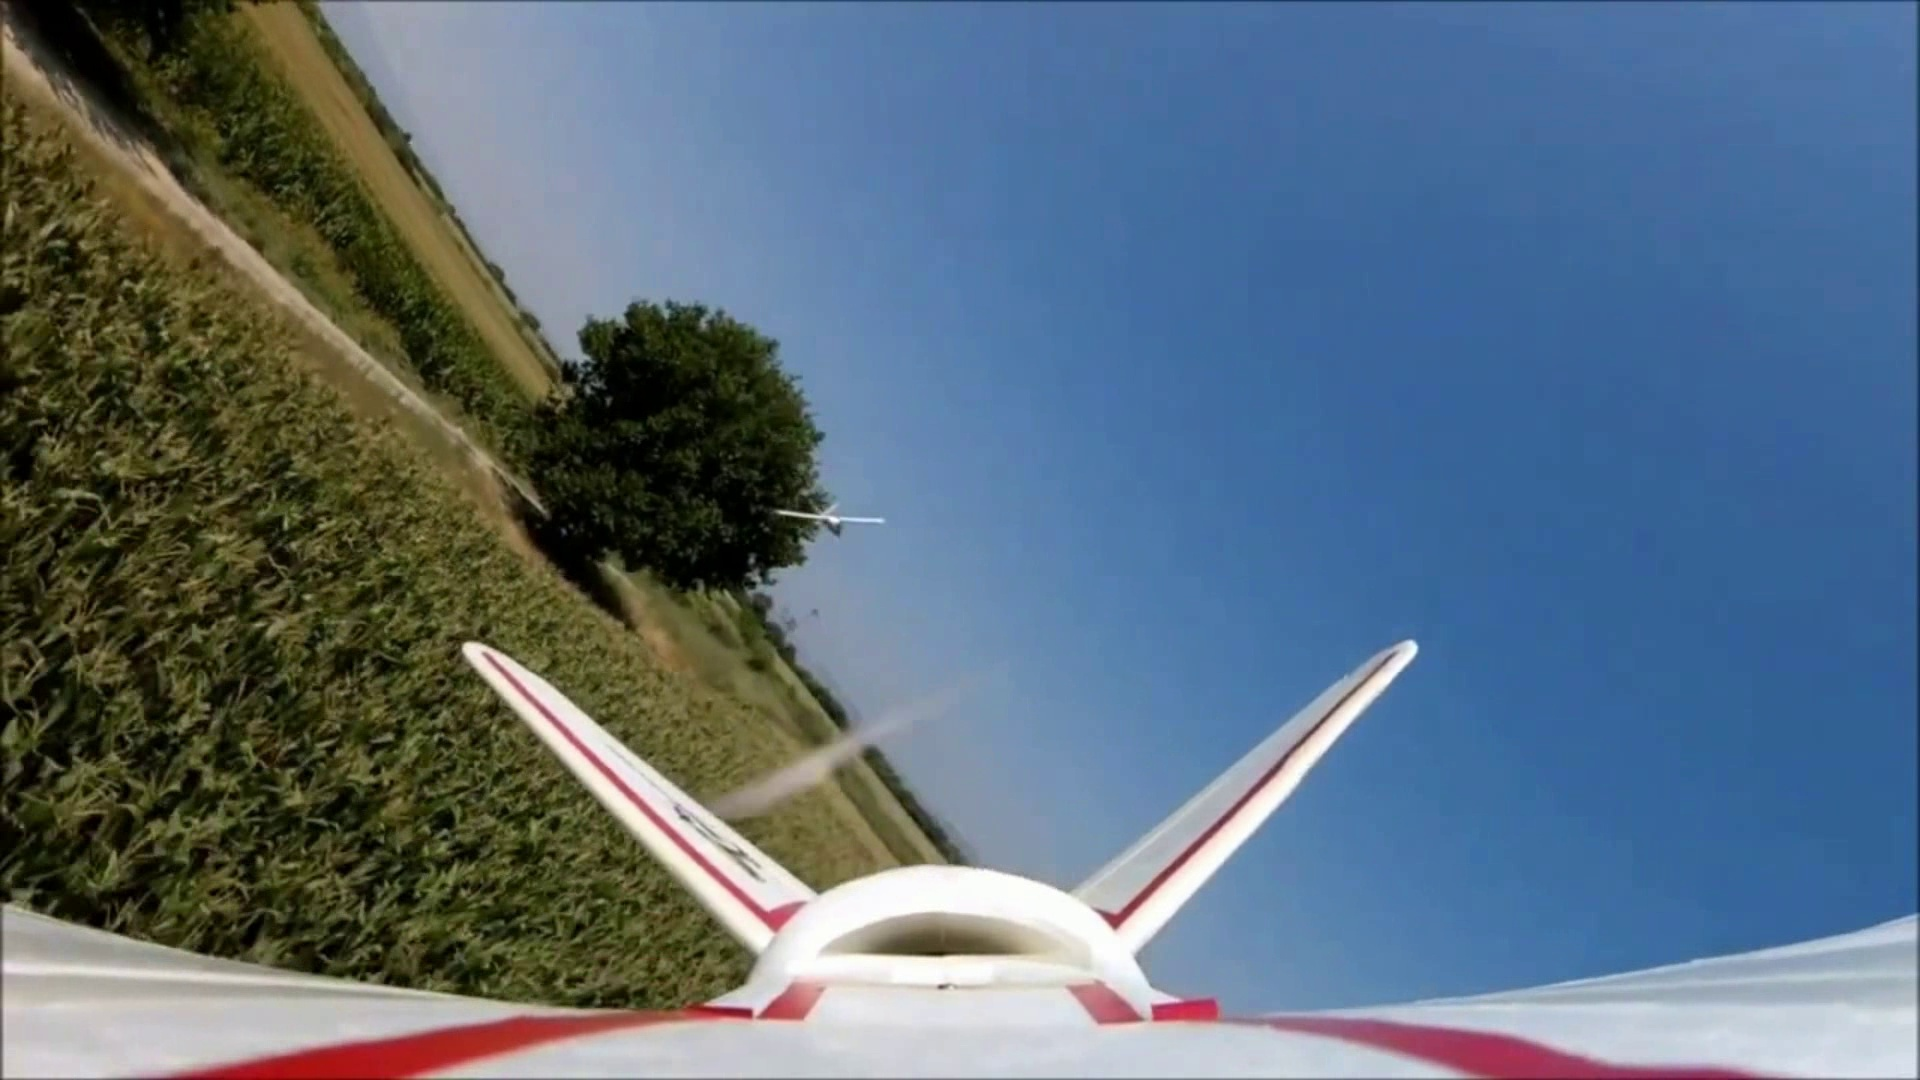airplane: (7, 633, 1877, 1060)
